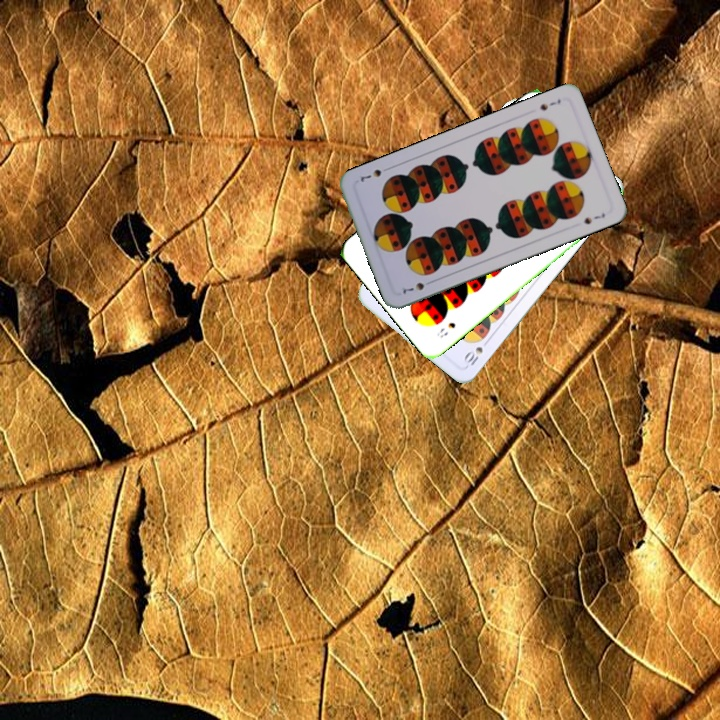S10: (460, 335, 492, 369)
S7: (398, 276, 436, 296), (536, 95, 563, 113)
S8: (433, 318, 458, 340)
